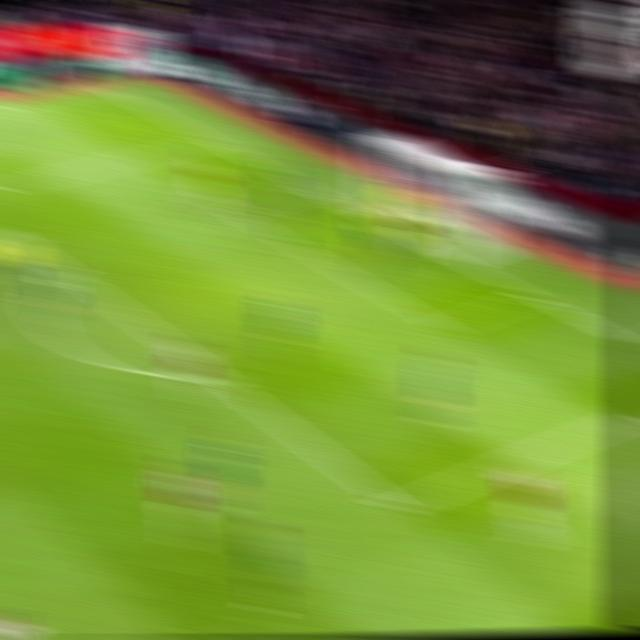bigarea_bottom_inner: (376, 489, 419, 523)
bigarea_top_outter: (196, 130, 230, 150)
bottom_arc_area_intersection: (199, 364, 236, 390)
corner: (84, 78, 123, 96)
smallarea_bottom_inner: (423, 307, 465, 341)
smallarea_bottom_outter: (512, 280, 552, 309)
smallarea_top_inner: (218, 199, 253, 222)
smallarea_top_outter: (295, 178, 329, 199)
top_arc_area_intersection: (44, 257, 79, 278)
